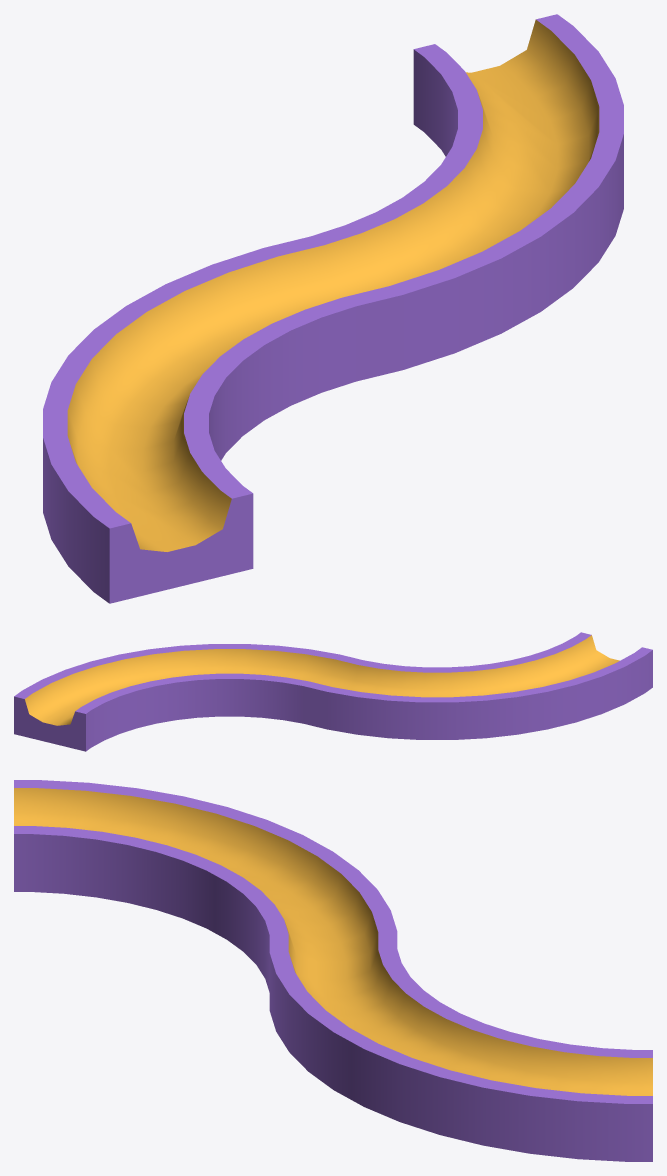
The model's file is kenney-marble-s-curve-right-large.glb.
3 views of the same model, one above another, from view 1: azimuth 30°, elevation 25°; view 2: azimuth 150°, elevation 25°; view 3: azimuth 270°, elevation 25° (orthographic). The views are drawn at different scales.
Parts seen in each view (by area): view 1: s-curve-right-large; view 2: s-curve-right-large; view 3: s-curve-right-large.
Boxes of the visible parts, x1,y1,x2,y2 form: s-curve-right-large: [43, 14, 623, 603]; s-curve-right-large: [14, 632, 652, 751]; s-curve-right-large: [14, 780, 652, 1161].
Bounding box in the file's own units: 6 × 0.5003 × 5.
1 material, 1 textured.
